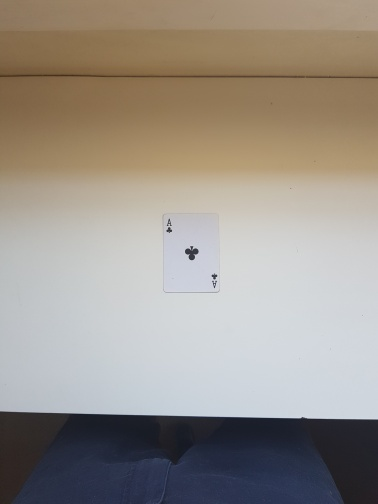ace: (161, 211, 221, 295)
